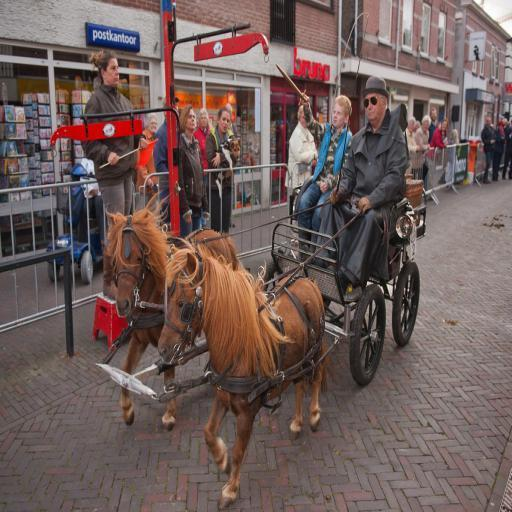horse: (156, 238, 332, 512), (102, 188, 246, 436)
